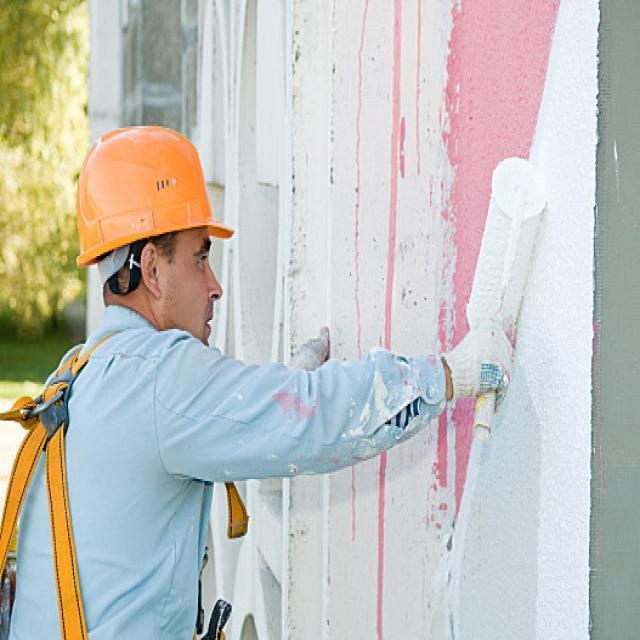Arnes_seguridad: (0, 315, 231, 637)
